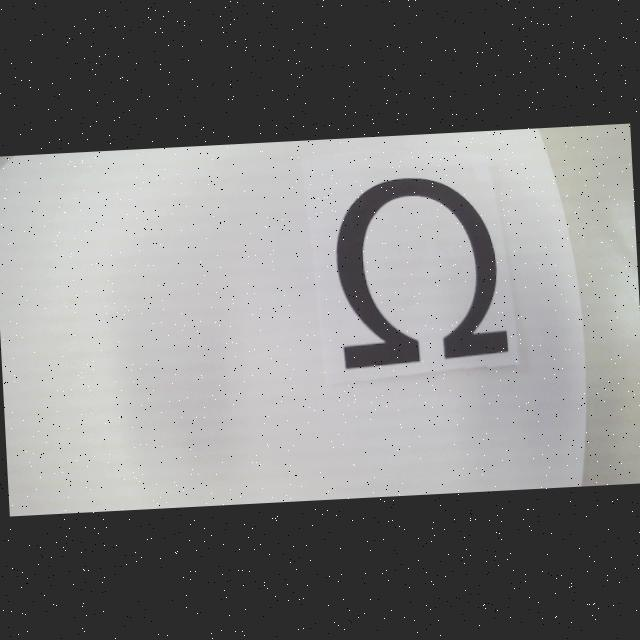OMEGA: (332, 173, 508, 370)
